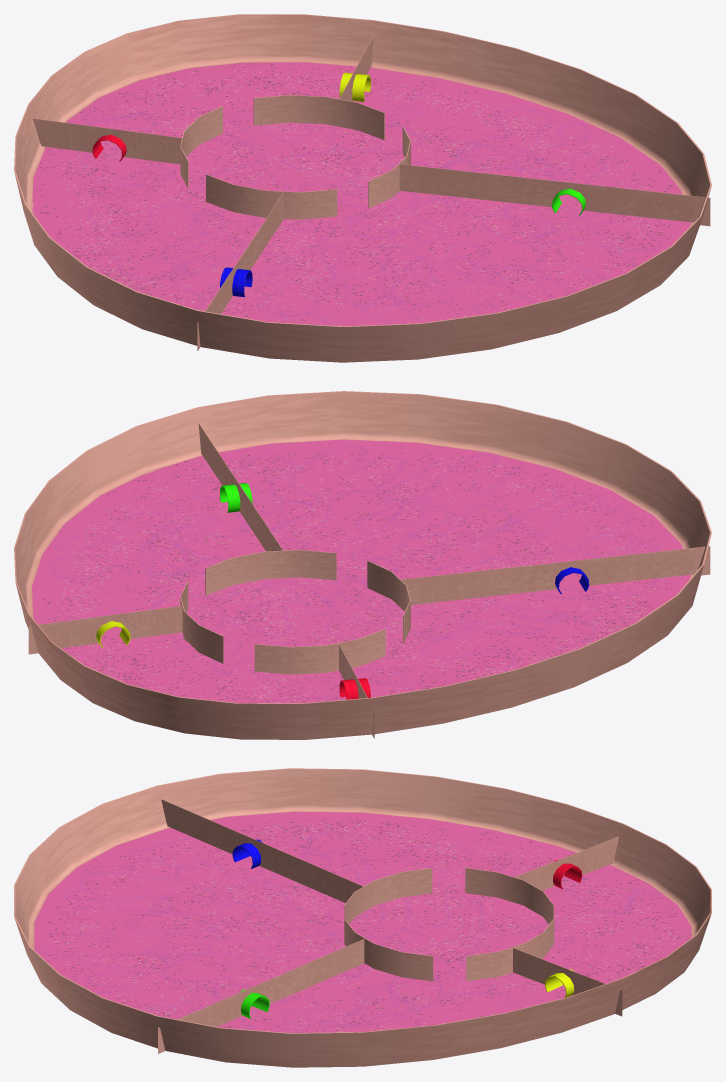
The model's file is FinalLevel2.fbx.
3 views of the same model, one above another, from view 1: azimuth 30°, elevation 25°; view 2: azimuth 150°, elevation 25°; view 3: azimuth 270°, elevation 25° (orthographic). The views are drawn at different scales.
Visible parts, largest first — view 1: polySurface1; view 2: polySurface1; view 3: polySurface1.
Boxes of the visible parts, x1=… form: polySurface1: x1=14, y1=14, x2=711, y2=362; polySurface1: x1=14, y1=391, x2=711, y2=739; polySurface1: x1=14, y1=768, x2=711, y2=1067.
Size of the model in its own units: 0.000293 by 1.96e-05 by 0.000325.
1 material, 1 textured.
